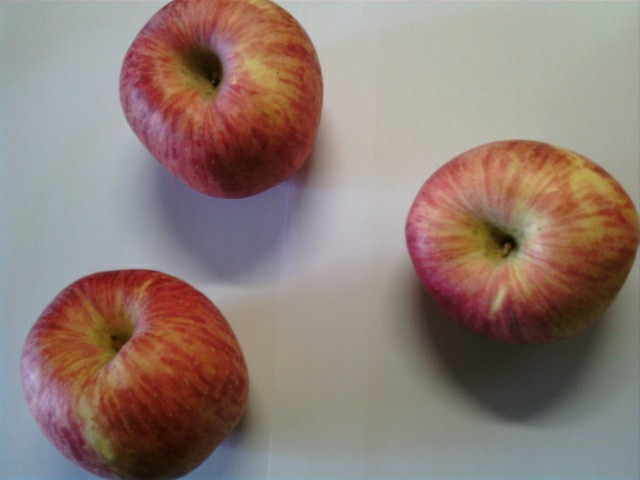normal_apple: (20, 269, 250, 480), (404, 139, 640, 344), (115, 1, 323, 198)
